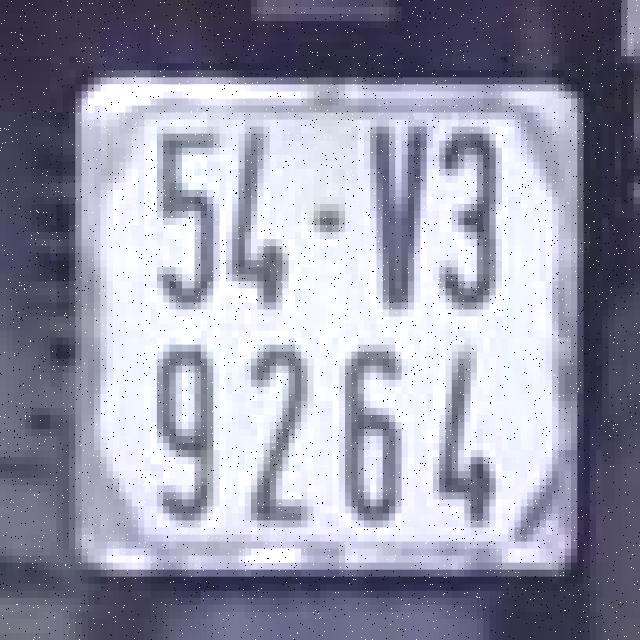2: (238, 338, 314, 534)
3: (436, 120, 505, 323)
4: (226, 116, 301, 320), (433, 341, 508, 531)
5: (135, 109, 223, 320)
6: (323, 338, 424, 534)
9: (141, 334, 229, 531)
V: (358, 116, 420, 313)
